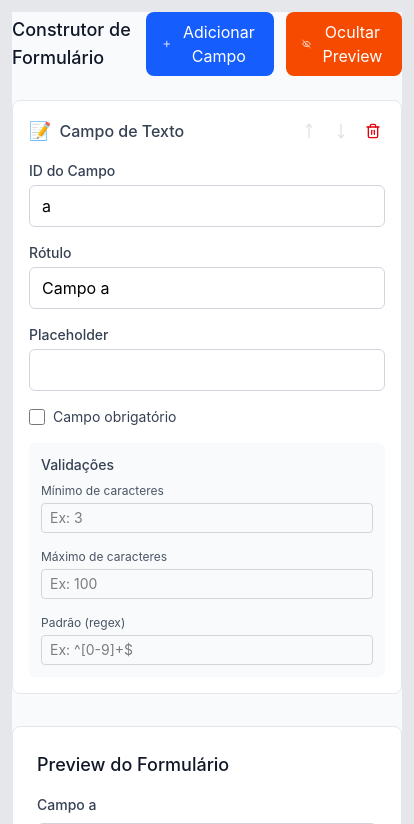
FormBuilder › toggles preview visibility
The width and height of the screenshot is (414, 824).
Expected: the heading "Preview do Formulário" is shown, [37, 754, 229, 775]
Click the button "Ocultar Preview": {"x": 344, "y": 44} [286, 12, 402, 76]
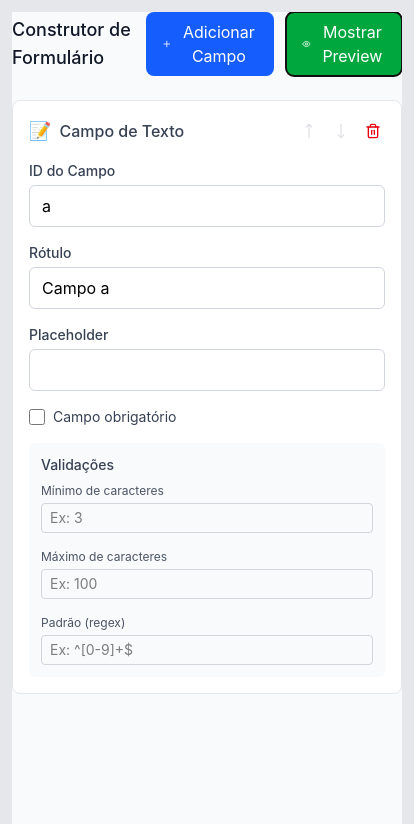
Now the heading "Preview do Formulário" is gone
